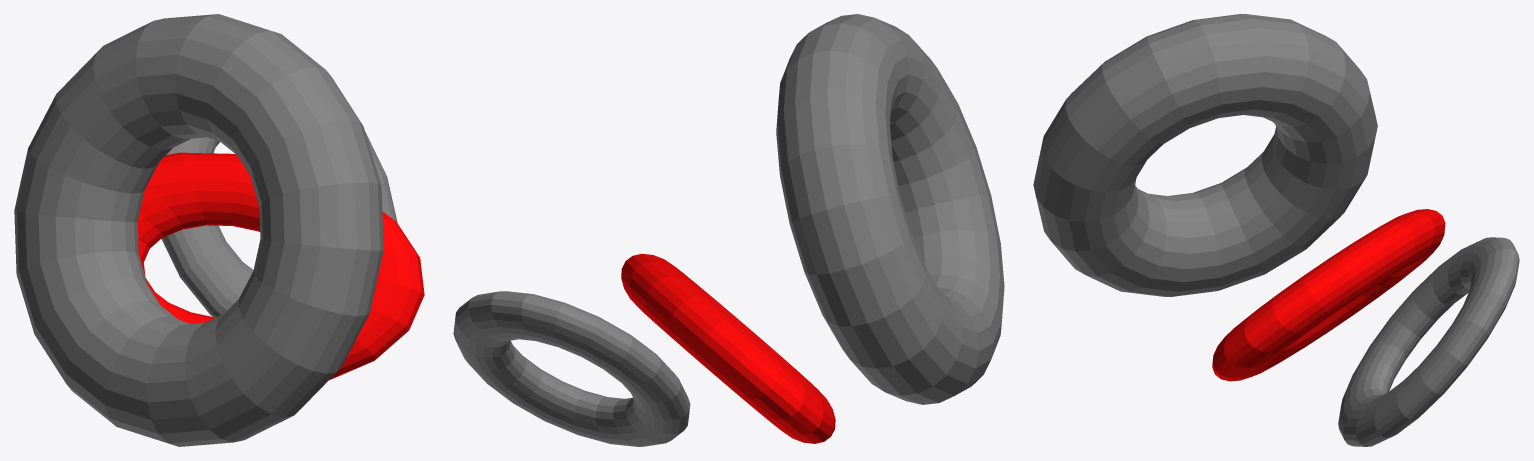
File: effect_phong_emission_texture.dae
3 views of the same model, side by side, from view 1: azimuth 30°, elevation 25°; view 2: azimuth 150°, elevation 25°; view 3: azimuth 270°, elevation 25° (orthographic). The views are drawn at different scales.
Parts seen in each view (by area): view 1: pTorus3, pTorus1, pTorus2; view 2: pTorus3, pTorus2, pTorus1; view 3: pTorus3, pTorus2, pTorus1.
Boxes of the visible parts, box(x1,y1,x2,y2) form: pTorus3: box(14, 14, 383, 446); pTorus1: box(137, 152, 424, 380); pTorus2: box(161, 132, 397, 317); pTorus3: box(776, 14, 1004, 404); pTorus2: box(453, 291, 690, 446); pTorus1: box(621, 253, 835, 443); pTorus3: box(1033, 14, 1377, 296); pTorus2: box(1338, 237, 1519, 446); pTorus1: box(1212, 209, 1445, 381).
Size of the model in its own units: 308 by 283 by 357.
2 materials, 1 textured.
